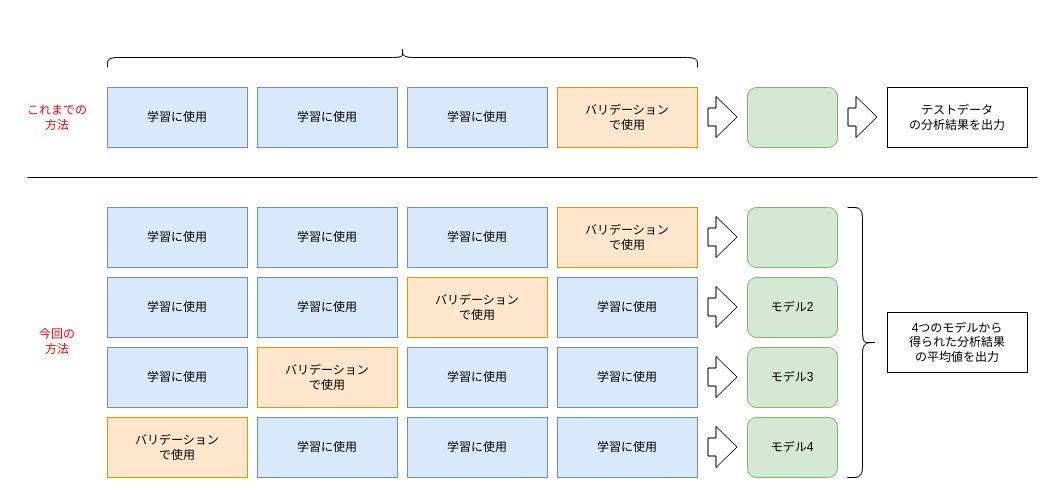
Image size: 1056x495. Some labels were removed from this diagram. Here are the shapes that lost their labels. From the top down, the centre of each, then its label:
At point (402, 57): "学習データ".
At point (792, 117): "モデル".
At point (792, 237): "モデル1".
